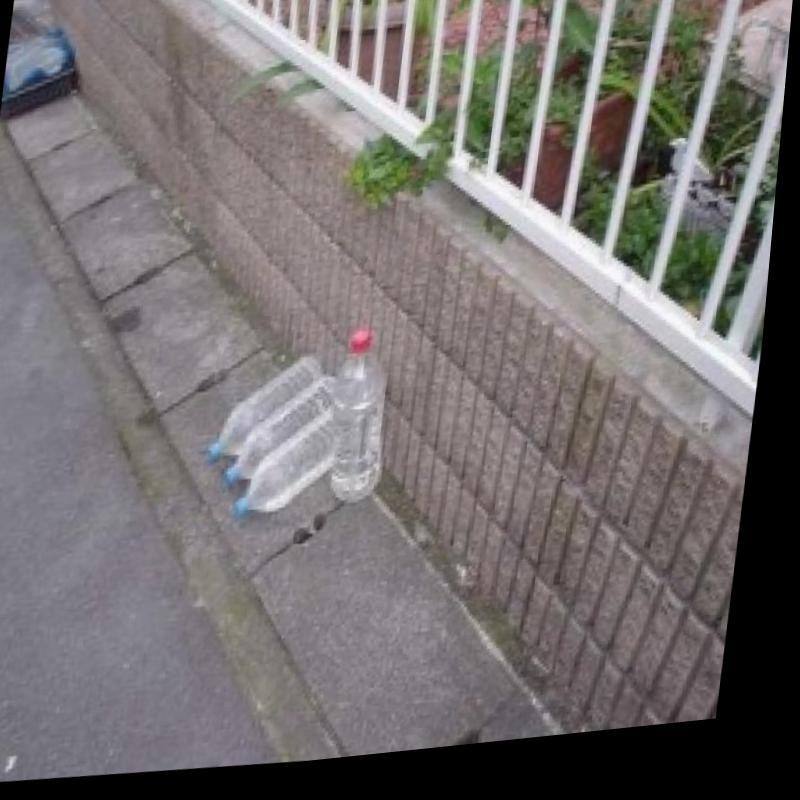botella: (328, 336, 409, 523), (214, 357, 336, 476), (232, 380, 348, 497), (241, 412, 351, 529)
